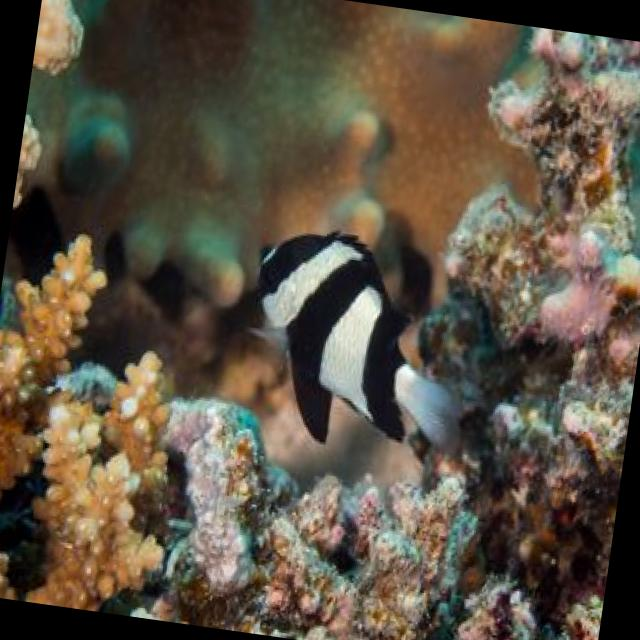ThreeStripedDamselfish: (261, 233, 460, 453)
